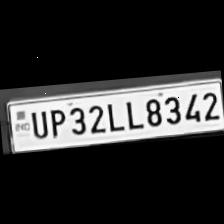2: (84, 99, 106, 134), (198, 86, 219, 120)
3: (66, 100, 88, 136), (160, 92, 180, 125)
4: (180, 89, 200, 123)
8: (140, 94, 164, 128)
L: (119, 95, 141, 130), (103, 97, 123, 131)
P: (44, 104, 66, 138)
U: (27, 106, 48, 138)
